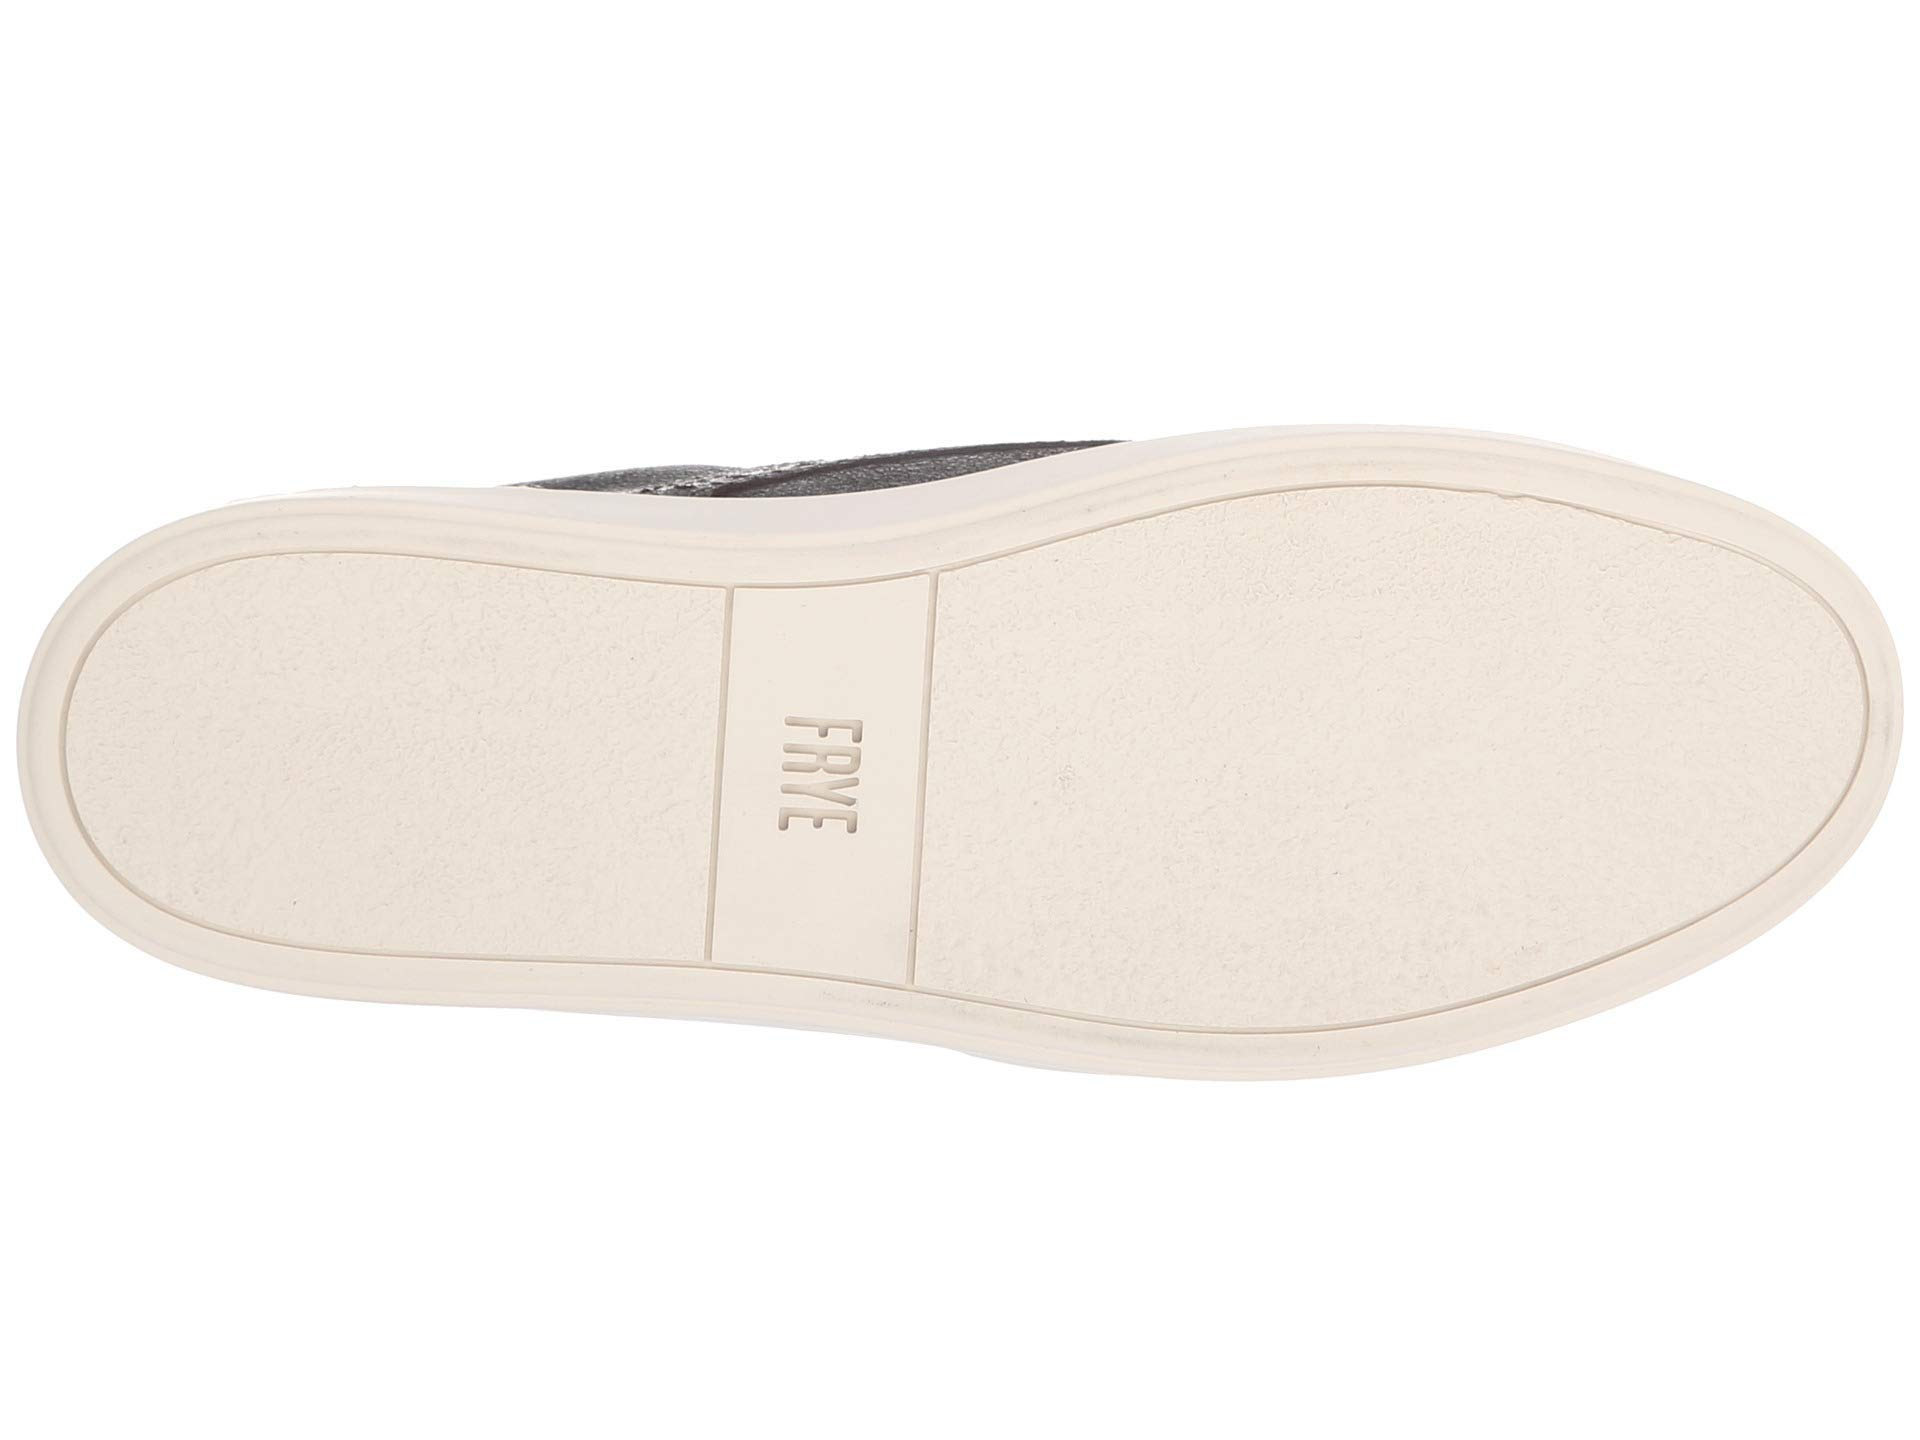line: (647, 632, 989, 944)
other: (1164, 578, 1593, 986)
text: (647, 632, 989, 944), (759, 652, 892, 892)
